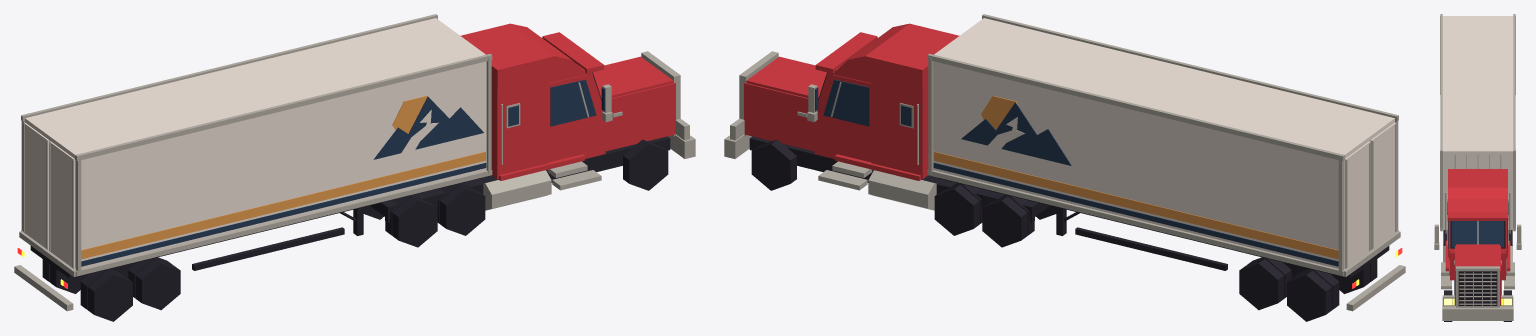
The model's file is veh.semi-trailer.lod2.glb.
The picture shows the model from 3 angles, left to right: view 1: azimuth 30°, elevation 25°; view 2: azimuth 150°, elevation 25°; view 3: azimuth 270°, elevation 25°; orthographic projection. The views are drawn at different scales.
Visible parts, largest first — view 1: body, object 8, wheelRL, wheelFL; view 2: body, object 8, wheelRR, wheelFR; view 3: body, object 8, lightsFront.
Boxes of the visible parts, bbox=[...] form: body: bbox=[14, 14, 695, 311]; object 8: bbox=[21, 75, 612, 321]; wheelRL: bbox=[437, 183, 485, 235]; wheelFL: bbox=[623, 139, 668, 190]; body: bbox=[724, 14, 1405, 311]; object 8: bbox=[807, 75, 1398, 321]; wheelRR: bbox=[934, 183, 982, 235]; wheelFR: bbox=[751, 139, 796, 190]; body: bbox=[1440, 14, 1515, 320]; object 8: bbox=[1434, 217, 1521, 305]; lightsFront: bbox=[1444, 298, 1511, 305].
Bounding box in the file's own units: 17.14 × 4.6 × 3.05.
